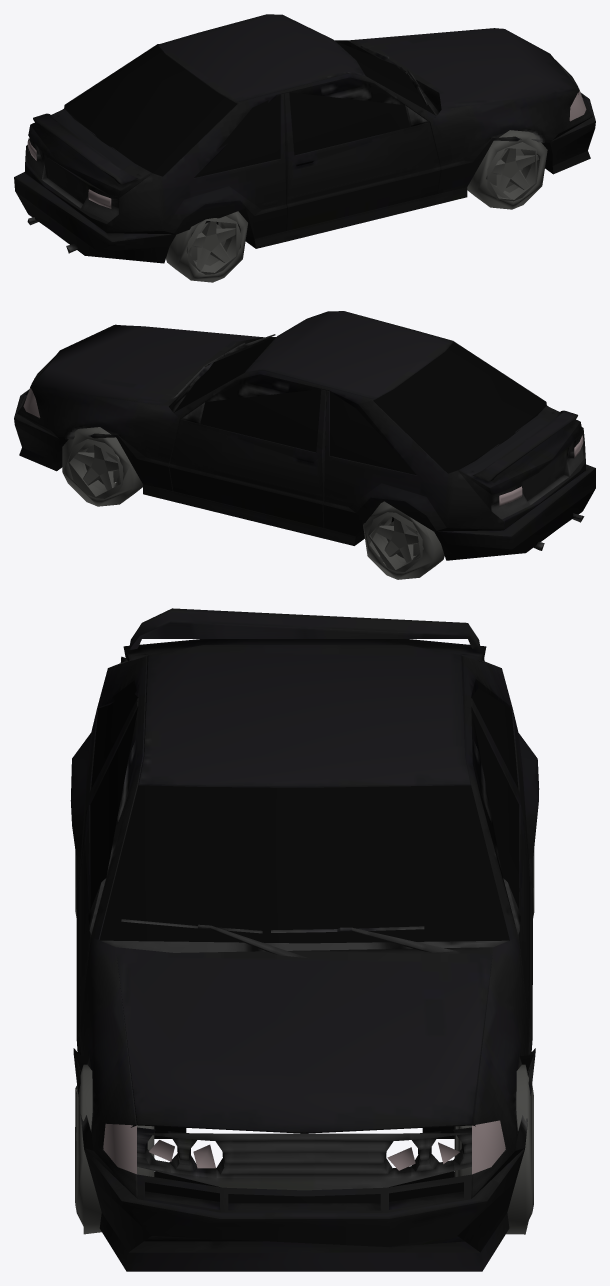
File: pc-coupe-black.lod1.glb
3 views of the same model, one above another, from view 1: azimuth 30°, elevation 25°; view 2: azimuth 150°, elevation 25°; view 3: azimuth 270°, elevation 25° (orthographic). The views are drawn at different scales.
Parts seen in each view (by area): view 1: Coupe Body_Body_0, Coupe Body_Glass_0; view 2: Coupe Body_Body_0, Coupe Body_Glass_0; view 3: Coupe Body_Body_0, Coupe Body_Glass_0.
Boxes of the visible parts, <box> form: Coupe Body_Body_0: <box>14,14,595,263</box>; Coupe Body_Glass_0: <box>27,41,586,282</box>; Coupe Body_Body_0: <box>14,311,595,560</box>; Coupe Body_Glass_0: <box>23,337,583,579</box>; Coupe Body_Body_0: <box>70,608,539,1271</box>; Coupe Body_Glass_0: <box>75,660,534,1234</box>.
Bounding box in the file's own units: 4.2 × 1.25 × 1.63.
2 materials, 1 textured.
